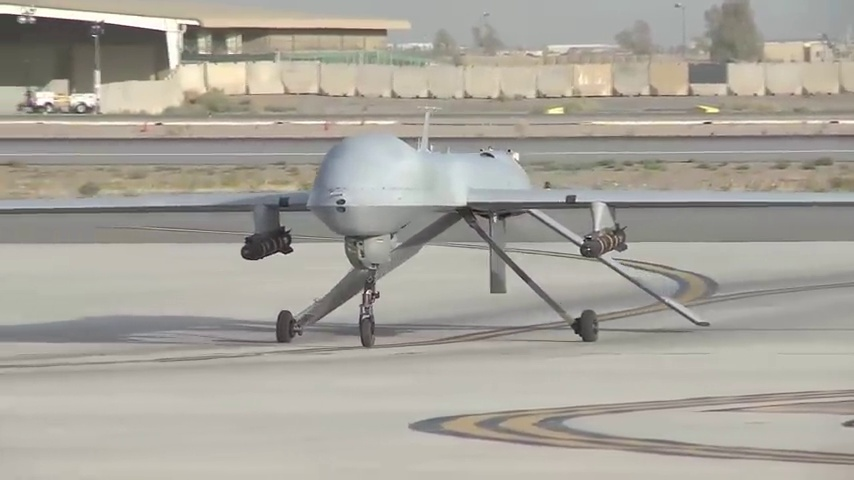military drone: (0, 105, 854, 348)
